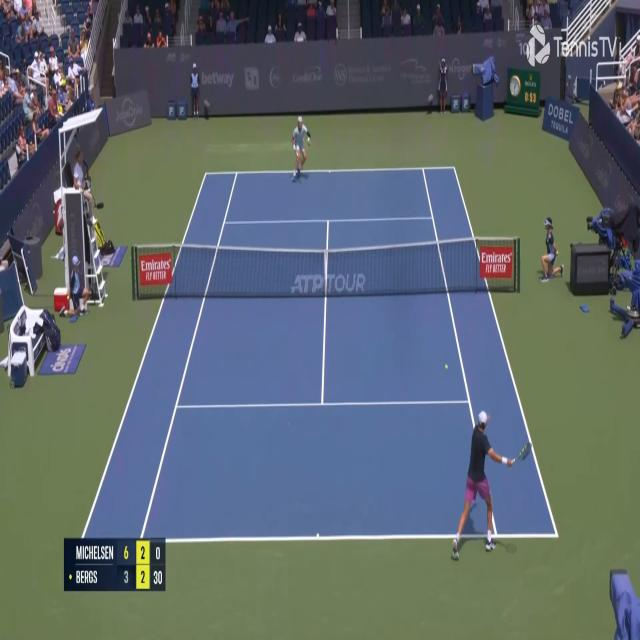tennis-player: (448, 408, 526, 566), (290, 113, 311, 182)
